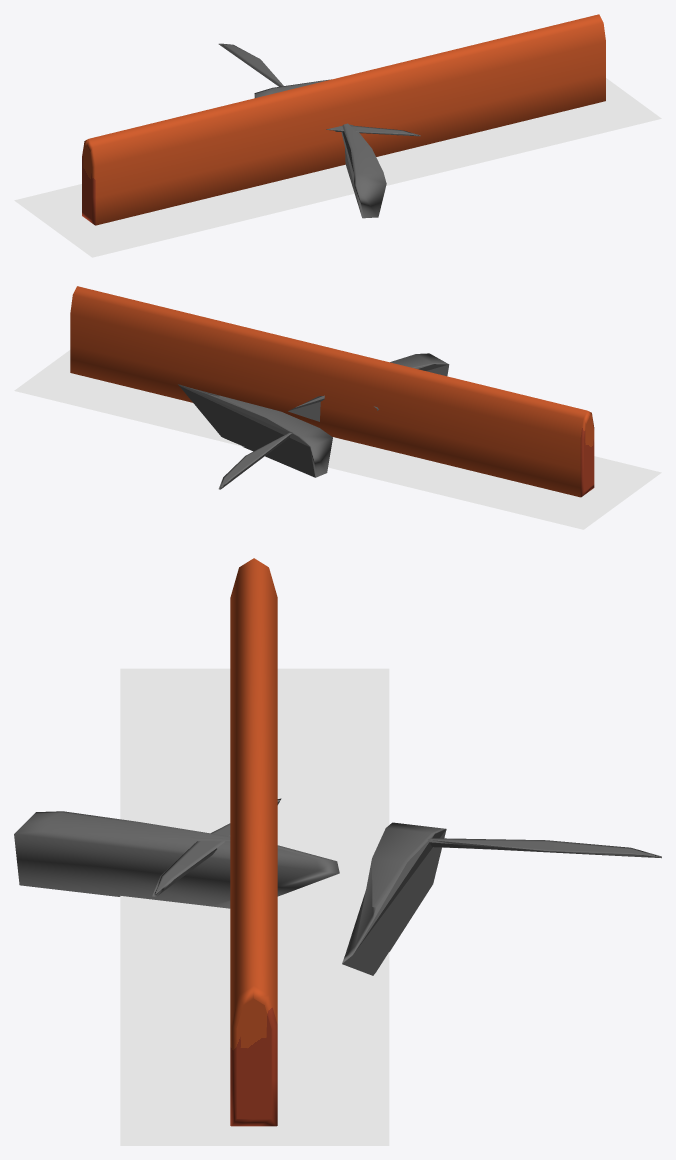
File: NeutralObstacle1.fbx
The picture shows the model from 3 angles, top to bottom: view 1: azimuth 30°, elevation 25°; view 2: azimuth 150°, elevation 25°; view 3: azimuth 270°, elevation 25°; orthographic projection. The views are drawn at different scales.
Visible parts, largest first — view 1: BasicObstacle, Shadow, GibPiece4, GibPiece3, GibPiece1; view 2: BasicObstacle, Shadow, GibPiece2, GibPiece4, GibPiece3; view 3: Shadow, BasicObstacle, GibPiece4, GibPiece2, GibPiece3, GibPiece1.
Boxes of the visible parts, x1=… form: BasicObstacle: x1=82, y1=14, x2=605, y2=225; Shadow: x1=14, y1=78, x2=661, y2=257; GibPiece4: x1=341, y1=123, x2=386, y2=218; GibPiece3: x1=218, y1=43, x2=283, y2=86; GibPiece1: x1=326, y1=125, x2=420, y2=136; BasicObstacle: x1=70, y1=286, x2=594, y2=497; Shadow: x1=14, y1=350, x2=661, y2=529; GibPiece2: x1=178, y1=384, x2=332, y2=477; GibPiece4: x1=288, y1=353, x2=449, y2=421; GibPiece3: x1=218, y1=432, x2=291, y2=489; Shadow: x1=120, y1=668, x2=389, y2=1145; BasicObstacle: x1=230, y1=558, x2=277, y2=1126; GibPiece4: x1=14, y1=811, x2=339, y2=908; GibPiece2: x1=342, y1=822, x2=446, y2=975; GibPiece3: x1=428, y1=838, x2=661, y2=858; GibPiece1: x1=152, y1=798, x2=281, y2=897.
Bounding box in the file's own units: 2.86 × 0.3992 × 1.64.
